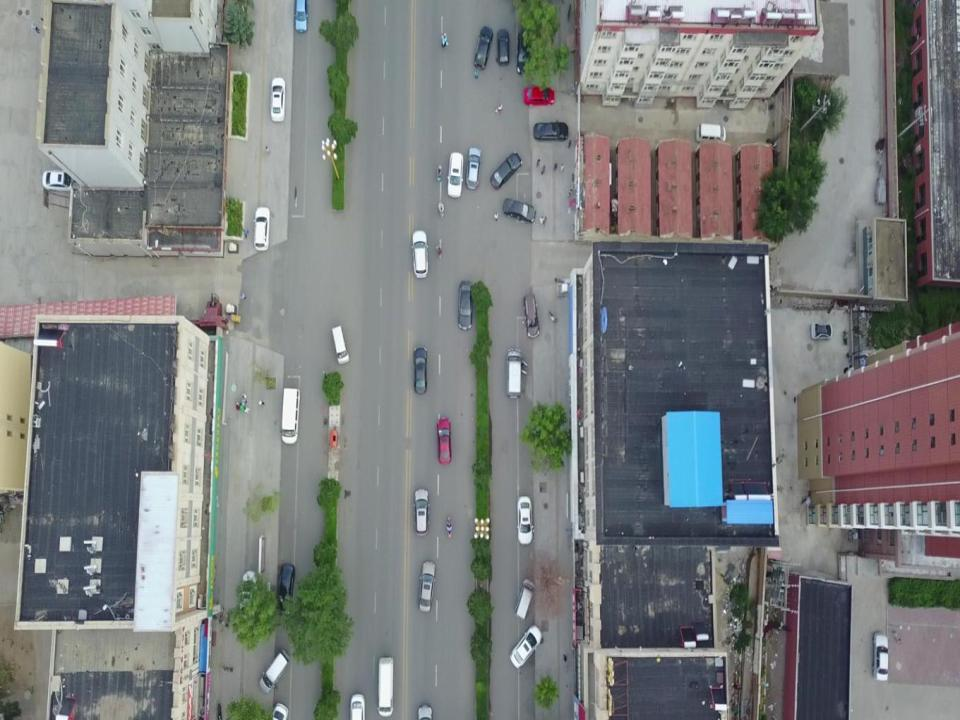car: (510, 624, 542, 668), (490, 152, 522, 190), (277, 562, 295, 614), (239, 570, 258, 618), (516, 496, 534, 546), (871, 632, 889, 682), (419, 561, 436, 613), (474, 26, 494, 70), (502, 198, 536, 223), (457, 280, 473, 332), (413, 488, 430, 536), (412, 230, 428, 280), (447, 152, 464, 198), (436, 417, 452, 465), (523, 293, 540, 338), (253, 207, 270, 251), (42, 169, 75, 191), (412, 346, 427, 394), (534, 120, 568, 141), (523, 85, 554, 108), (270, 78, 286, 122), (516, 32, 532, 76), (466, 147, 481, 191), (496, 28, 510, 66), (294, 0, 309, 33), (810, 322, 833, 340), (349, 693, 364, 720), (268, 702, 290, 720), (417, 703, 432, 720)
van: (258, 648, 291, 694), (505, 347, 528, 399), (280, 387, 300, 445), (377, 656, 394, 717), (515, 579, 535, 620), (331, 325, 349, 364), (696, 123, 726, 143)
